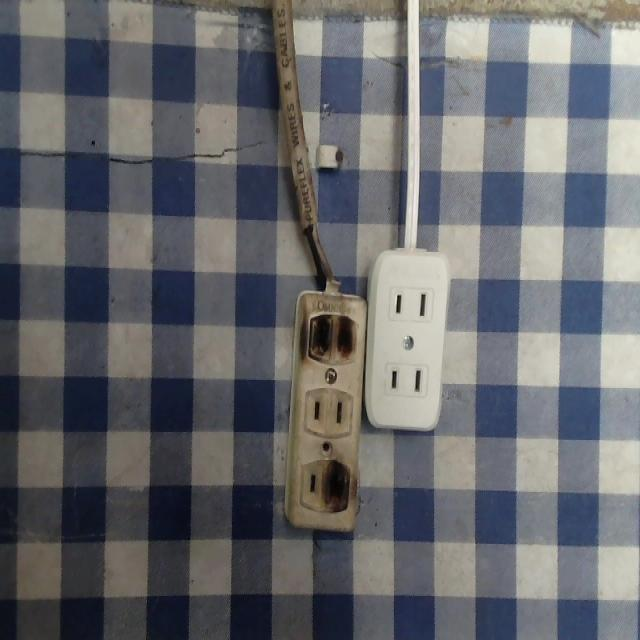-: (305, 309, 361, 368), (320, 456, 350, 513)
